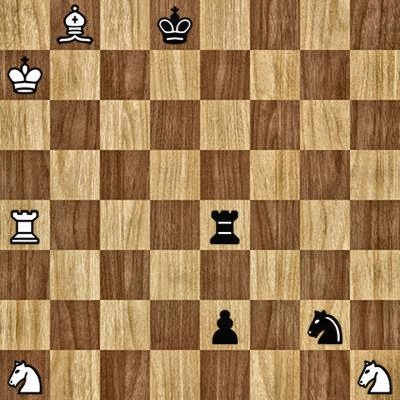black-king: (150, 0, 200, 50)
black-knight: (300, 300, 350, 350)
black-pawn: (200, 300, 250, 350)
black-rook: (200, 200, 250, 250)
white-bishop: (50, 0, 100, 50)
white-king: (0, 50, 50, 100)
white-knight: (0, 350, 50, 400), (350, 350, 400, 400)
white-rook: (0, 200, 50, 250)
